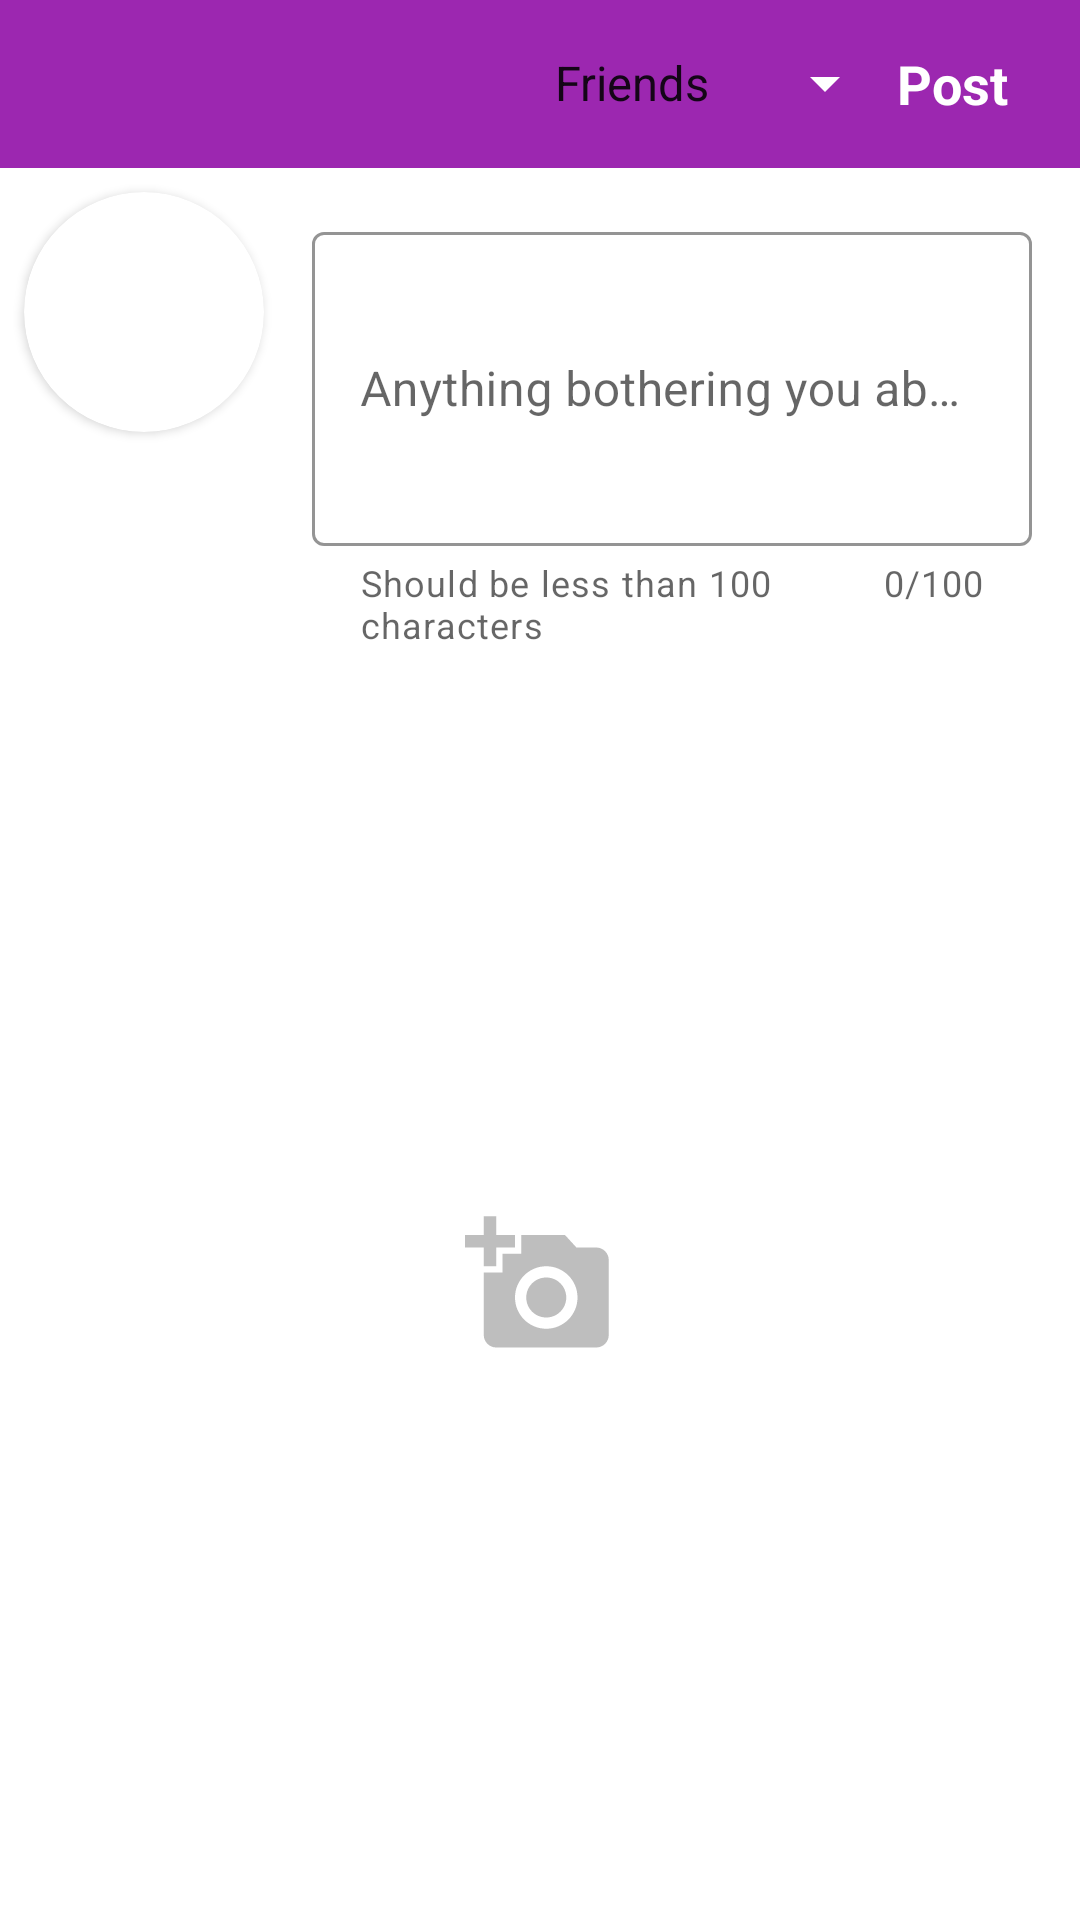

Icons on this 1080w x 1920h Android screen, each with the point to tap as [x,y]:
add photo: [537,1282]
